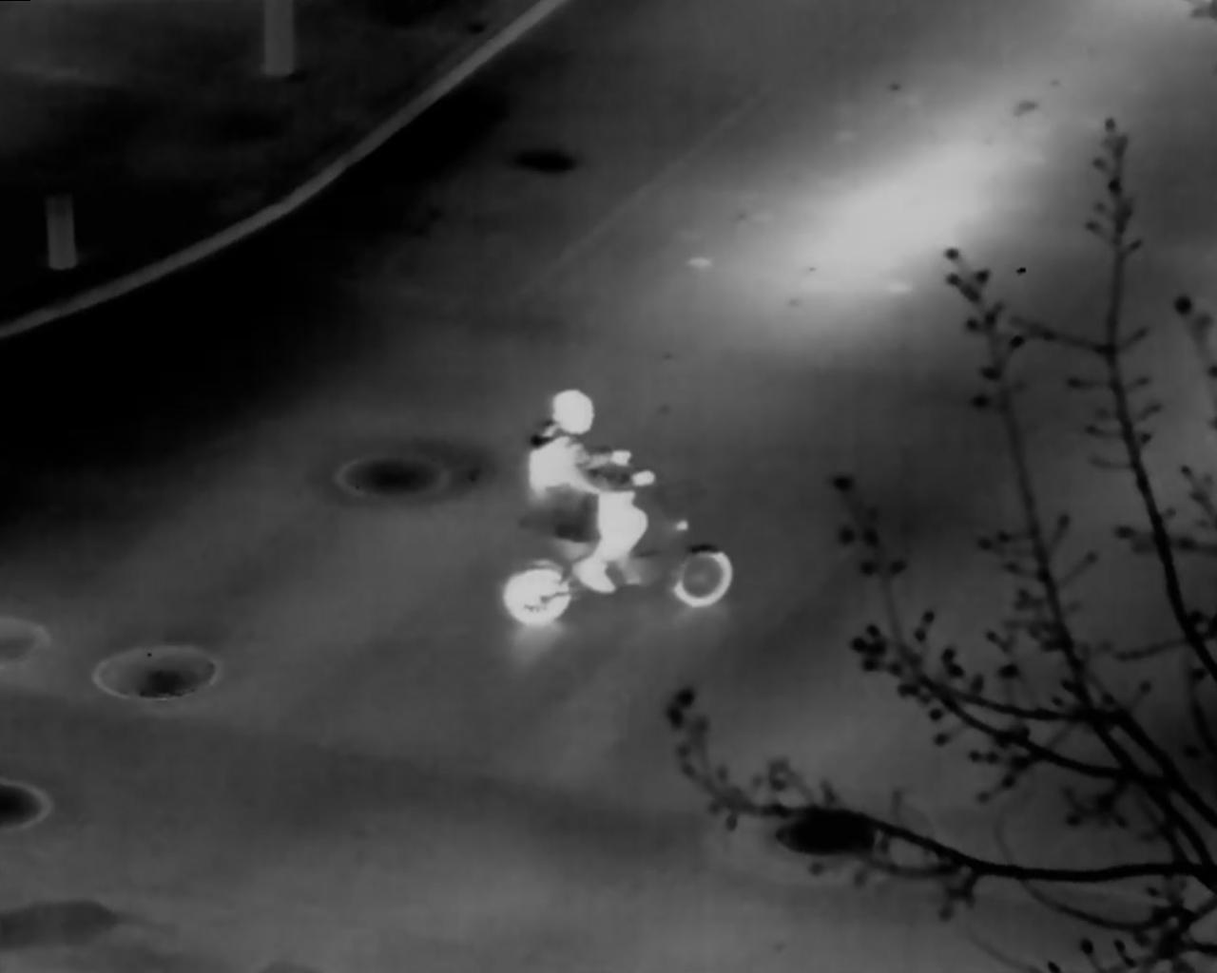person: (527, 385, 656, 593)
